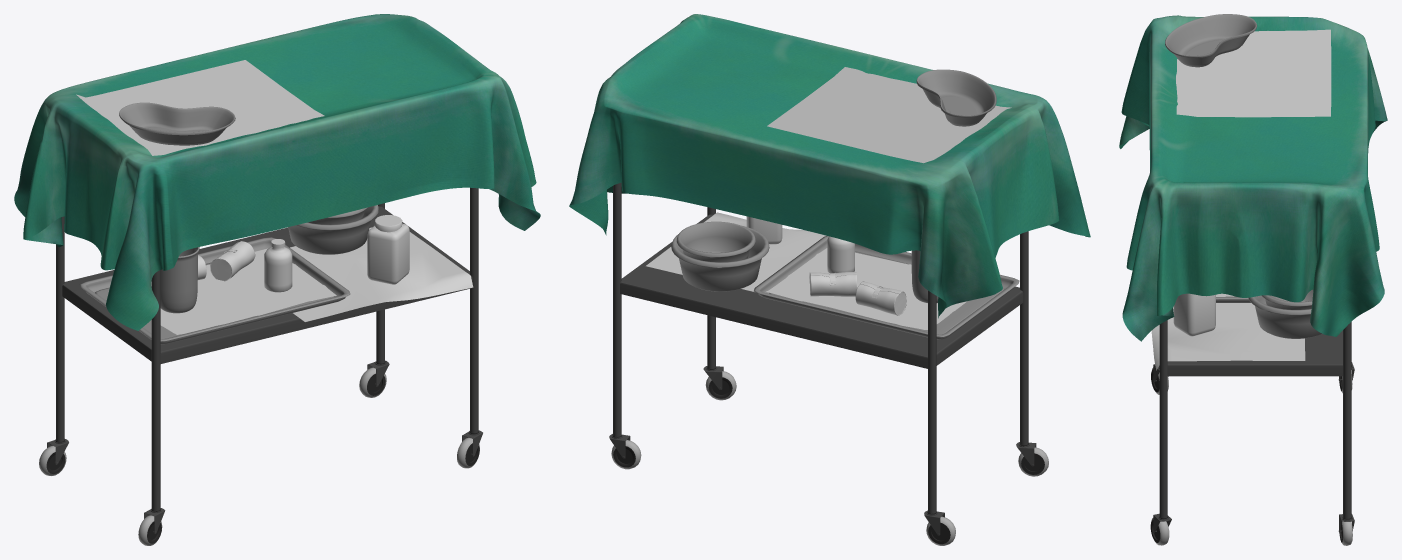
The model's file is ToolTable.fbx.
3 views of the same model, side by side, from view 1: azimuth 30°, elevation 25°; view 2: azimuth 150°, elevation 25°; view 3: azimuth 270°, elevation 25° (orthographic). The views are drawn at different scales.
Parts seen in each view (by area): view 1: Cloths, ToolTable_H95, Towel_paper01, Towel_paper03, Towel_Tray, Bowl_Emesis_Stack, Tray_Surgical, Bottle02, Bowl_Steel, Beaker_Steel, Bottle01, Bandage_White1; view 2: Cloths, ToolTable_H95, Towel_paper01, Towel_Tray, Tray_Surgical, Bowl_Emesis_Stack, Bowl_Steel, Bowl_Steel1, Towel_paper03, Bandage_White, Bandage_White1, Bottle01; view 3: Cloths, Towel_paper01, ToolTable_H95, Towel_paper03, Bowl_Emesis_Stack, Bowl_Steel, Bottle02, Bowl_Steel1.
Part boxes in pixels (x1,y1,x2,y2): Cloths: [14, 14, 540, 330]; ToolTable_H95: [39, 187, 482, 545]; Towel_paper01: [76, 60, 324, 155]; Towel_paper03: [290, 227, 473, 321]; Towel_Tray: [151, 248, 336, 334]; Bowl_Emesis_Stack: [119, 102, 235, 145]; Tray_Surgical: [79, 237, 350, 344]; Bottle02: [367, 215, 409, 284]; Bowl_Steel: [288, 205, 378, 254]; Beaker_Steel: [160, 247, 199, 313]; Bottle01: [264, 239, 292, 292]; Bandage_White1: [210, 241, 255, 281]; Cloths: [569, 14, 1090, 318]; ToolTable_H95: [609, 182, 1048, 545]; Towel_paper01: [767, 67, 1011, 163]; Towel_Tray: [766, 248, 966, 329]; Tray_Surgical: [754, 236, 1019, 339]; Bowl_Emesis_Stack: [916, 69, 996, 126]; Bowl_Steel: [671, 226, 769, 291]; Bowl_Steel1: [676, 221, 755, 262]; Towel_paper03: [646, 212, 826, 291]; Bandage_White: [855, 281, 906, 315]; Bandage_White1: [809, 272, 857, 296]; Bottle01: [827, 236, 854, 272]; Cloths: [1119, 15, 1387, 341]; Towel_paper01: [1176, 29, 1331, 117]; ToolTable_H95: [1150, 320, 1354, 545]; Towel_paper03: [1151, 303, 1305, 370]; Bowl_Emesis_Stack: [1165, 14, 1257, 67]; Bowl_Steel: [1248, 295, 1321, 338]; Bottle02: [1173, 293, 1215, 336]; Bowl_Steel1: [1261, 289, 1313, 309].
Size of the model in its own units: 114 by 99.46 by 63.
